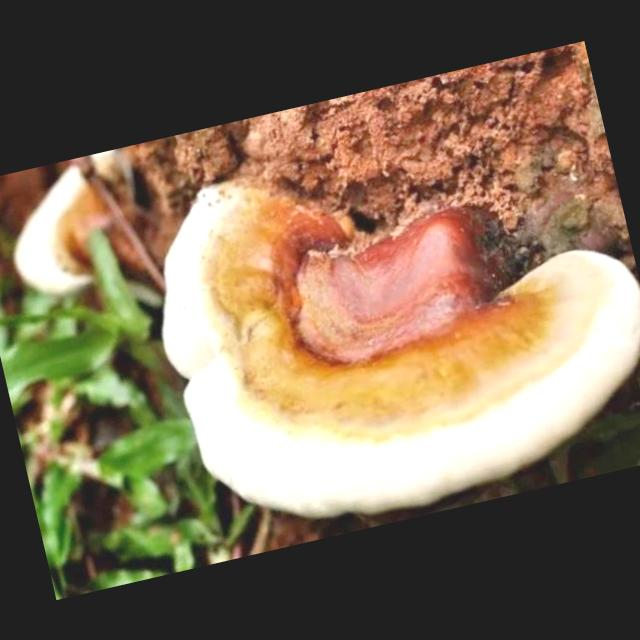ganoderma: (128, 90, 640, 558), (1, 147, 157, 306)
